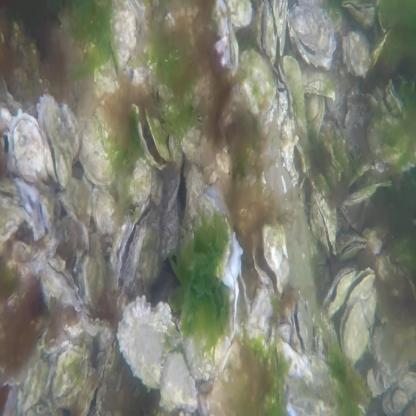3: (110, 200, 155, 294), (37, 94, 74, 190), (287, 0, 335, 68), (251, 222, 289, 304), (131, 101, 172, 172), (342, 155, 392, 206), (78, 233, 109, 313), (311, 174, 337, 261), (44, 257, 82, 311), (341, 267, 376, 325), (212, 223, 243, 286), (322, 266, 358, 318), (70, 368, 106, 416), (289, 298, 315, 355), (256, 2, 279, 63), (337, 236, 366, 262), (102, 238, 113, 257)
Oyster-Closed: (80, 116, 116, 188), (94, 187, 121, 236), (129, 158, 151, 206), (272, 0, 288, 54), (226, 0, 251, 27), (81, 314, 107, 336)
Oyster-Open: (117, 296, 202, 416), (202, 335, 288, 416), (7, 113, 51, 186), (241, 50, 278, 113), (159, 352, 198, 410), (107, 0, 136, 70), (340, 302, 370, 365), (283, 57, 307, 134), (343, 31, 372, 79), (298, 61, 335, 98), (303, 88, 326, 139)
